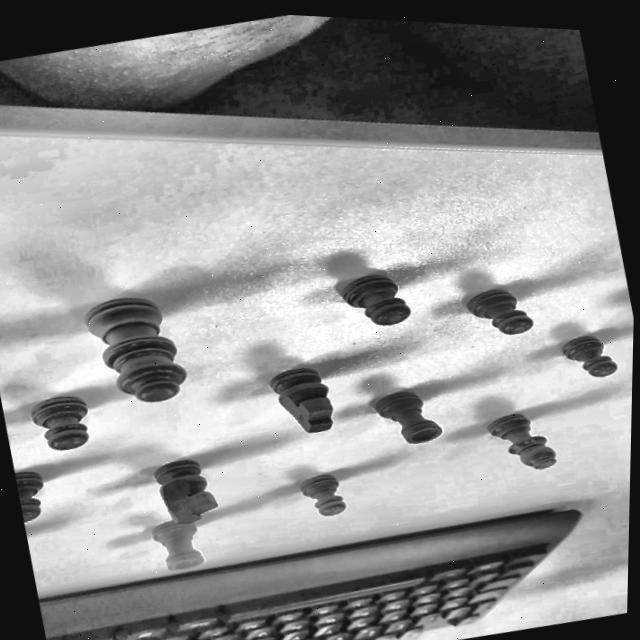black-bishop: (472, 400, 570, 487)
black-knight: (251, 351, 346, 448), (141, 446, 228, 532)
black-pawn: (5, 380, 107, 465), (327, 257, 428, 341), (447, 273, 550, 352), (543, 319, 634, 393), (277, 456, 354, 530), (12, 458, 58, 527)
black-queen: (73, 278, 207, 422)
black-rook: (354, 379, 449, 458), (142, 511, 211, 579)
